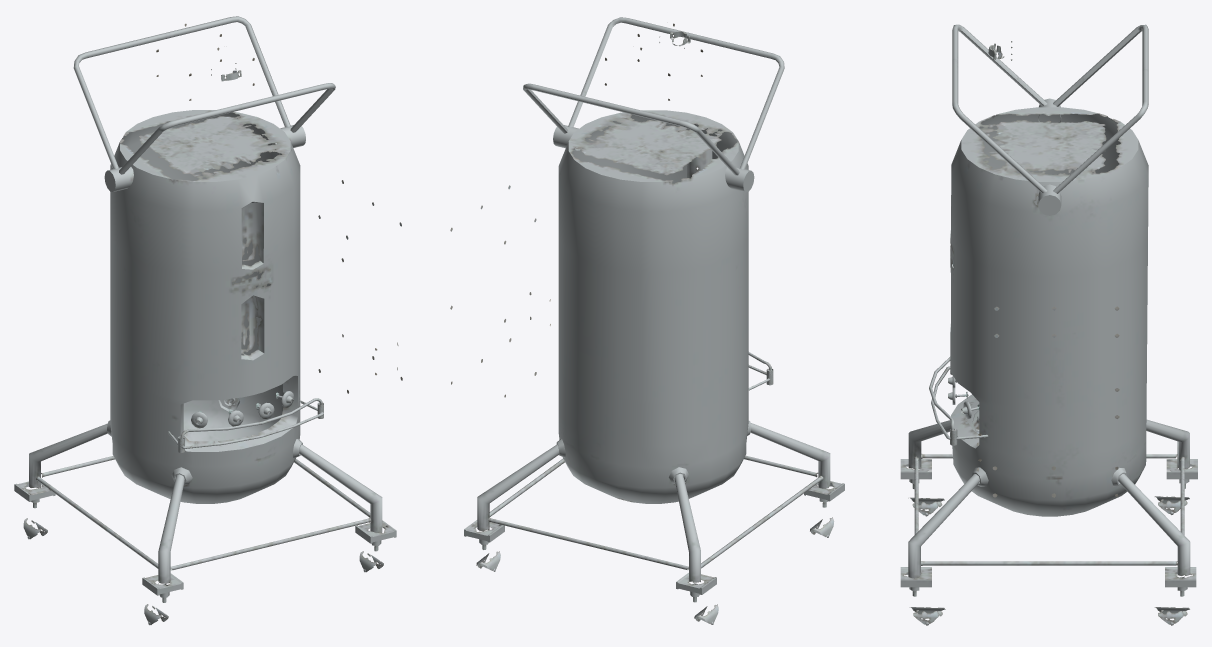
File: sm23_009_bioreactor01a.fbx
3 views of the same model, side by side, from view 1: azimuth 30°, elevation 25°; view 2: azimuth 150°, elevation 25°; view 3: azimuth 270°, elevation 25° (orthographic). The views are drawn at different scales.
Visible parts, largest first — view 1: LOD_1_Group_0_Sub_1__sm23_009_Bioreactor01A_A_Mat__Env_Defau; view 2: LOD_1_Group_0_Sub_1__sm23_009_Bioreactor01A_A_Mat__Env_Defau; view 3: LOD_1_Group_0_Sub_1__sm23_009_Bioreactor01A_A_Mat__Env_Defau.
Part boxes in pixels (left/top/right/bottom): LOD_1_Group_0_Sub_1__sm23_009_Bioreactor01A_A_Mat__Env_Defau: left=14, top=16, right=402, bottom=625; LOD_1_Group_0_Sub_1__sm23_009_Bioreactor01A_A_Mat__Env_Defau: left=450, top=17, right=844, bottom=624; LOD_1_Group_0_Sub_1__sm23_009_Bioreactor01A_A_Mat__Env_Defau: left=900, top=24, right=1197, bottom=625.
Size of the model in its own units: 2.05 by 3.59 by 1.91.
